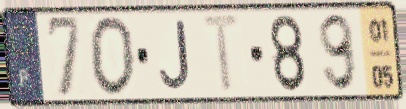7: (44, 13, 83, 101)
8: (267, 12, 308, 94)
9: (315, 12, 360, 95)
J: (157, 18, 194, 93)
O: (87, 14, 138, 99)
T: (200, 12, 246, 98)
